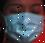with_mask: (2, 1, 45, 43)
